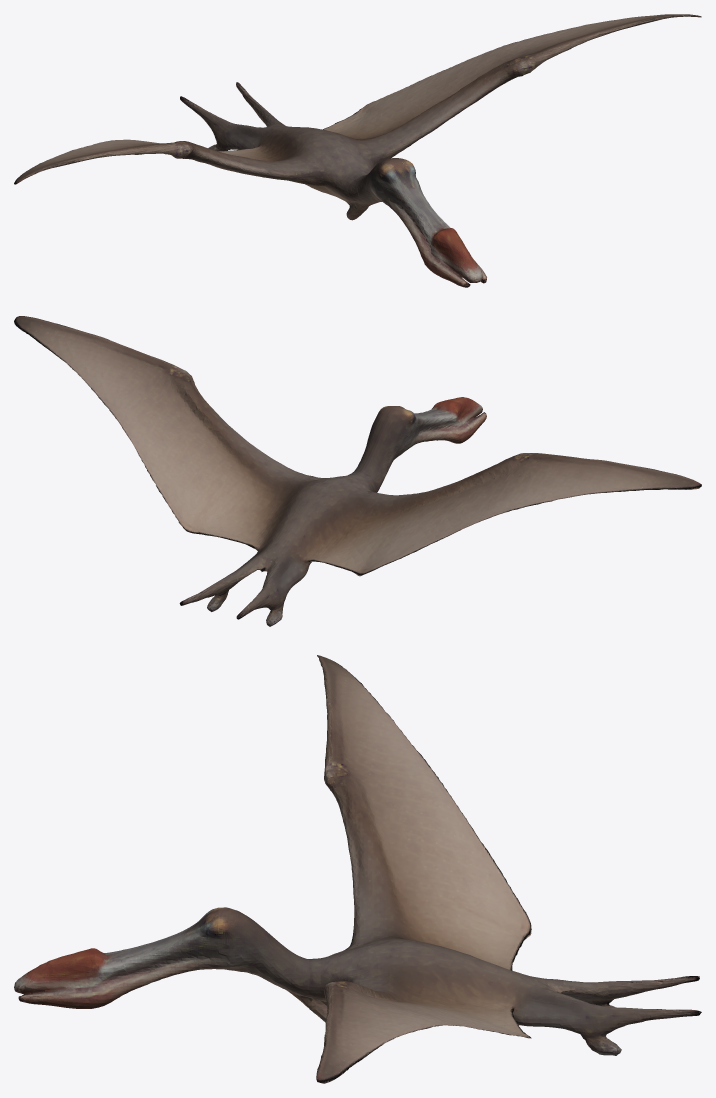
3 renders of one model, top to bottom at view 1: azimuth 30°, elevation 25°; view 2: azimuth 150°, elevation 25°; view 3: azimuth 270°, elevation 25°, orthographic. The views are drawn at different scales.
Visible parts, largest first — view 1: world; view 2: world; view 3: world.
Boxes of the visible parts, x1,y1,x2,y2 form: world: (14,14,701,287); world: (14,316,701,626); world: (14,655,701,1083).
Size of the model in its own units: 0.9889 by 0.1924 by 0.6734.
Materials: 1 (1 with a texture image).
